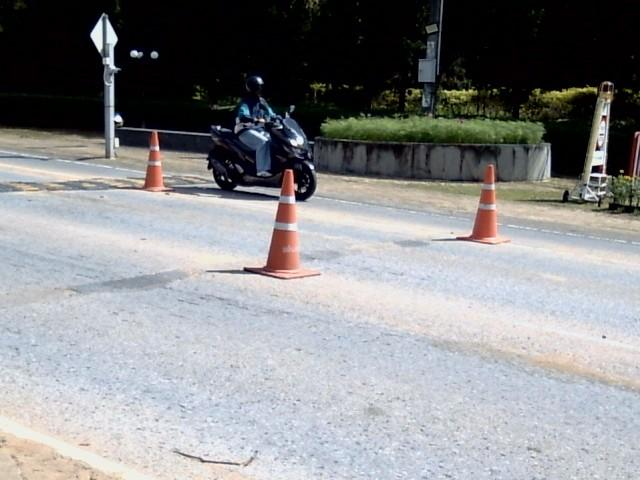helmet: (243, 66, 268, 97)
motor: (207, 112, 316, 200)
person: (235, 77, 274, 175)
